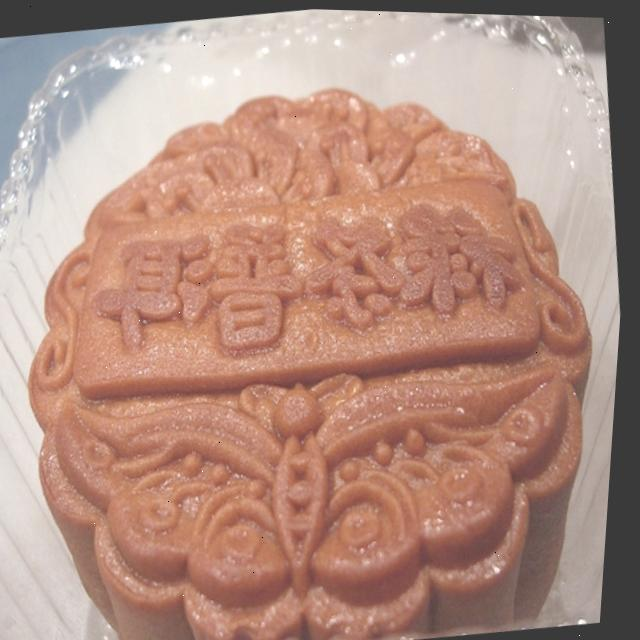蛋糕甜品: (0, 27, 639, 640)
